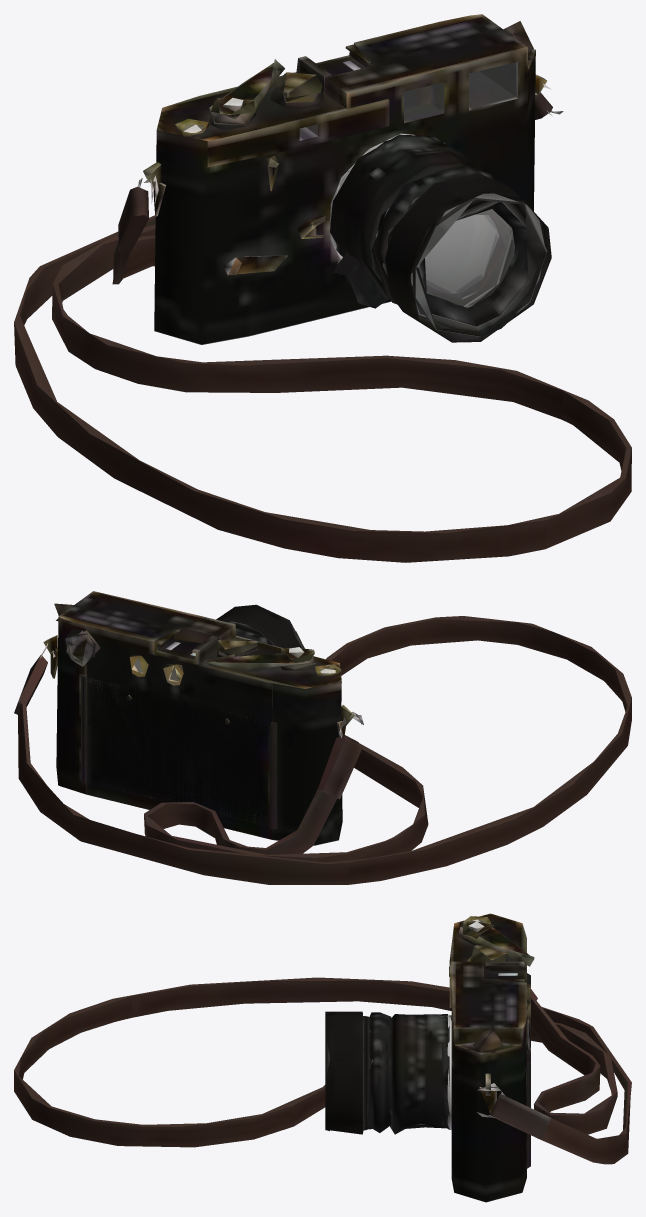
File: design-camera-01.glb
3 views of the same model, one above another, from view 1: azimuth 30°, elevation 25°; view 2: azimuth 150°, elevation 25°; view 3: azimuth 270°, elevation 25° (orthographic). The views are drawn at different scales.
Visible parts, largest first — view 1: Camera_01, Camera_01_strap; view 2: Camera_01, Camera_01_strap; view 3: Camera_01, Camera_01_strap.
Part boxes in pixels (x1,y1,x2,y2): Camera_01: (143,14,551,344); Camera_01_strap: (14,83,631,562); Camera_01: (43,591,354,845); Camera_01_strap: (14,616,631,884); Camera_01: (325,913,534,1202); Camera_01_strap: (14,977,631,1164).
Bounding box in the file's own units: 0.2139 × 0.0778 × 0.2623.
Materials: 4 (3 with a texture image).
